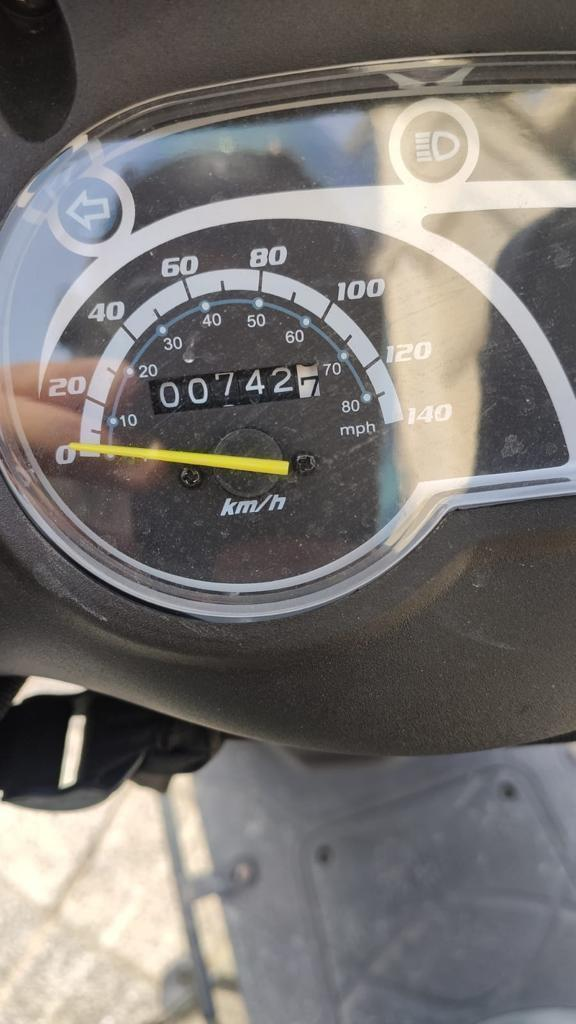0: (156, 379, 180, 410), (186, 375, 209, 405), (148, 362, 158, 378)
2: (271, 365, 294, 394)
4: (243, 367, 266, 397)
7: (213, 369, 238, 397), (298, 375, 320, 402), (323, 363, 332, 376)
odometer: (144, 361, 332, 416)
